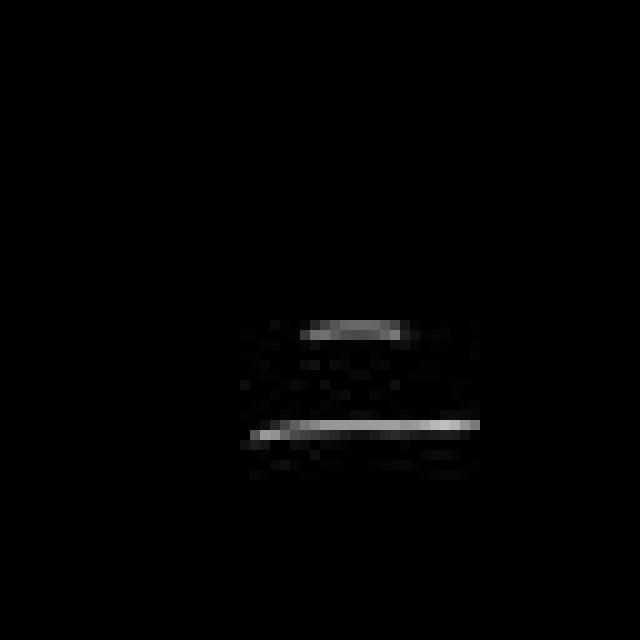2 -two-: (233, 304, 491, 467)
